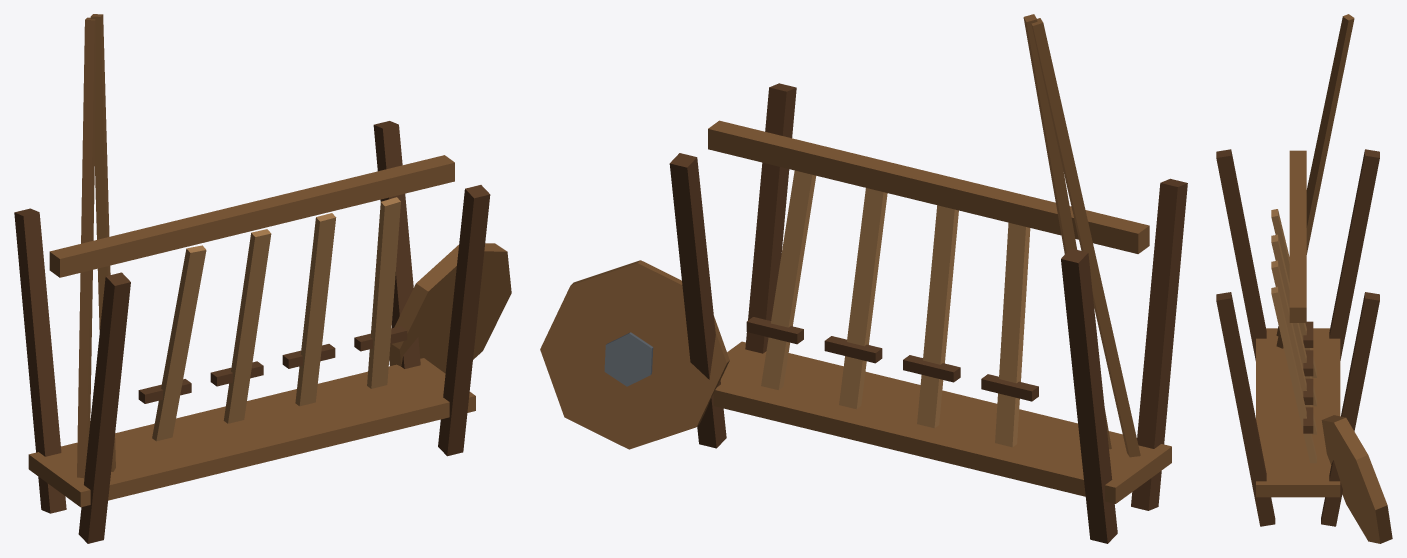
Rendered from PR_WeaponRack.fbx.
3 views of the same model, side by side, from view 1: azimuth 30°, elevation 25°; view 2: azimuth 150°, elevation 25°; view 3: azimuth 270°, elevation 25° (orthographic). The views are drawn at different scales.
Visible parts, largest first — view 1: PR_WeaponRack; view 2: PR_WeaponRack; view 3: PR_WeaponRack.
Part boxes in pixels (box(x1,y1,x2,y2)): PR_WeaponRack: box(14, 14, 511, 543); PR_WeaponRack: box(540, 14, 1187, 543); PR_WeaponRack: box(1216, 14, 1392, 543).
Bounding box in the file's own units: 2.81 × 1.04 × 2.52.
